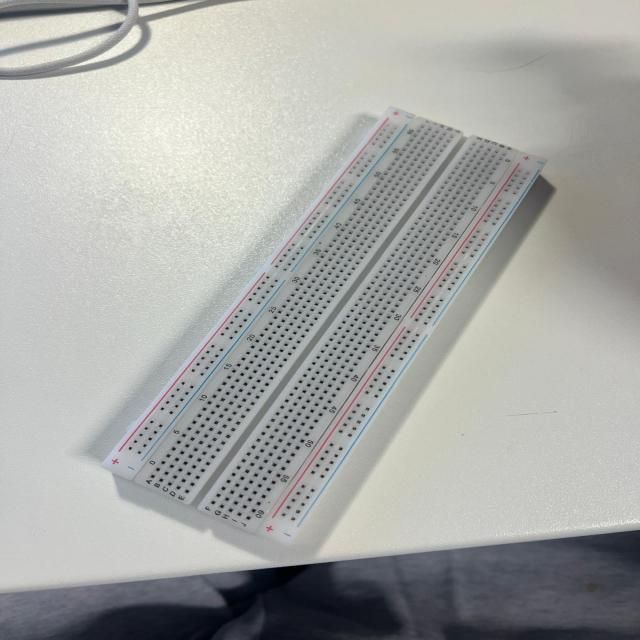BreadBoard: (51, 78, 572, 560)
